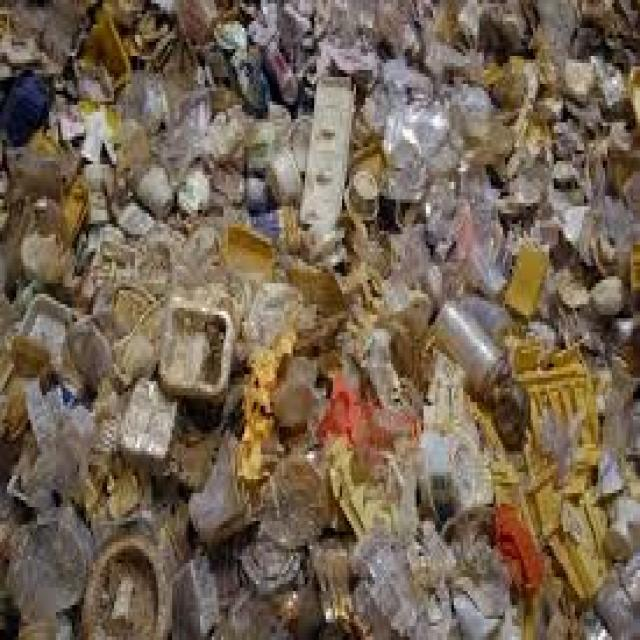heap: (42, 63, 605, 623)
